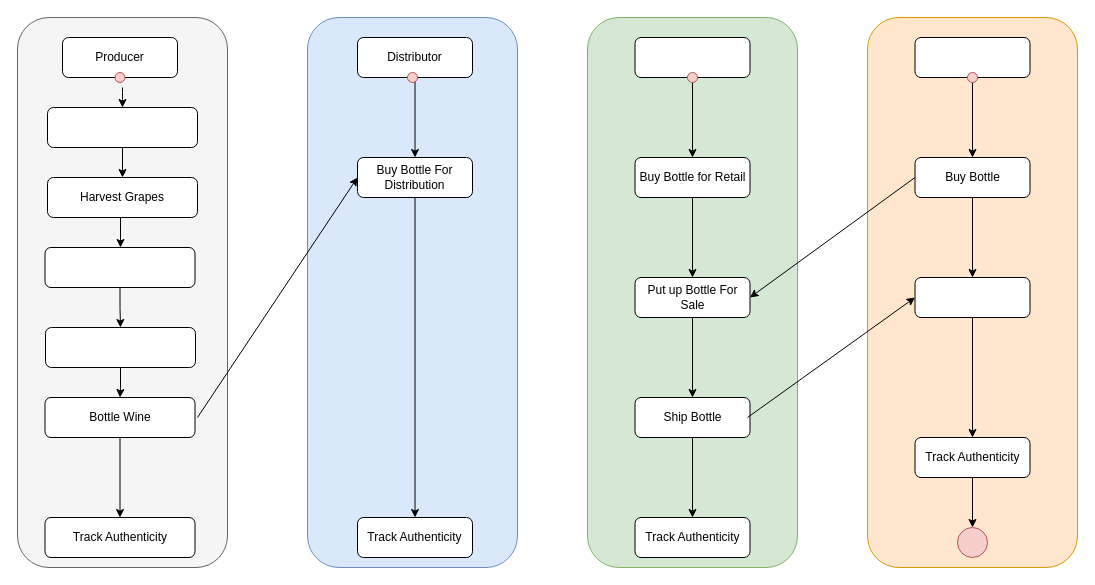
Some shapes in this 1095 by 585 pixel diagram are drawn without their labels. The centre of each missing label's shape, as x and y in pixels:
"Bottle Received" goes at (x=972, y=297).
"Customer" goes at (x=972, y=57).
"Ferment Grapes" goes at (x=120, y=347).
"Press Grapes" goes at (x=119, y=267).
"Register Farm" goes at (x=122, y=127).
"Retailer" goes at (x=692, y=57).
